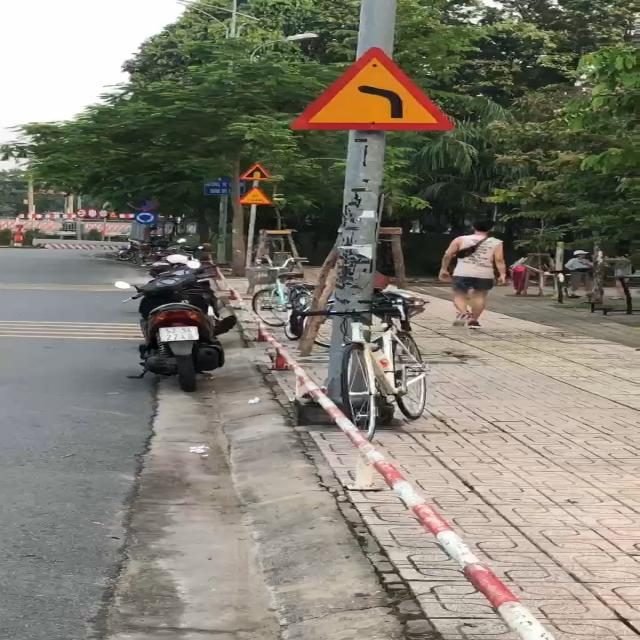Bien bao cho ngoat nguy hiem: (286, 44, 466, 136)
